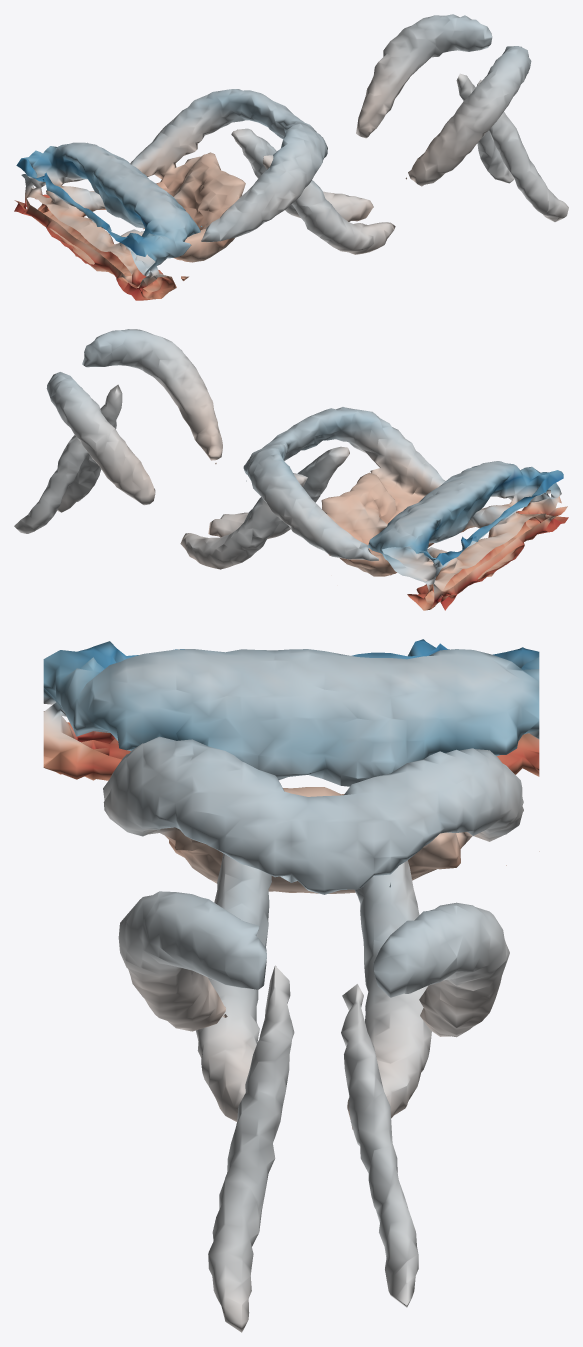
3 views of the same model, one above another, from view 1: azimuth 30°, elevation 25°; view 2: azimuth 150°, elevation 25°; view 3: azimuth 270°, elevation 25° (orthographic). The views are drawn at different scales.
Size of the model in its own units: 5.47 by 2.1 by 2.5.
